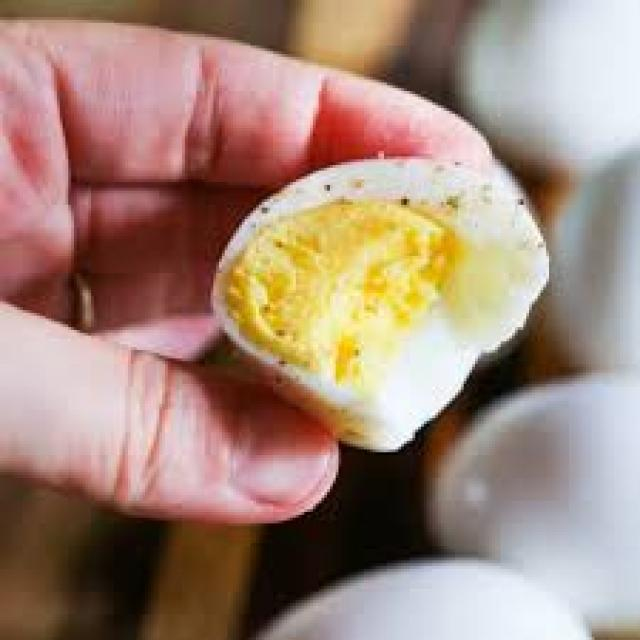boiled egg: (176, 80, 569, 514)
